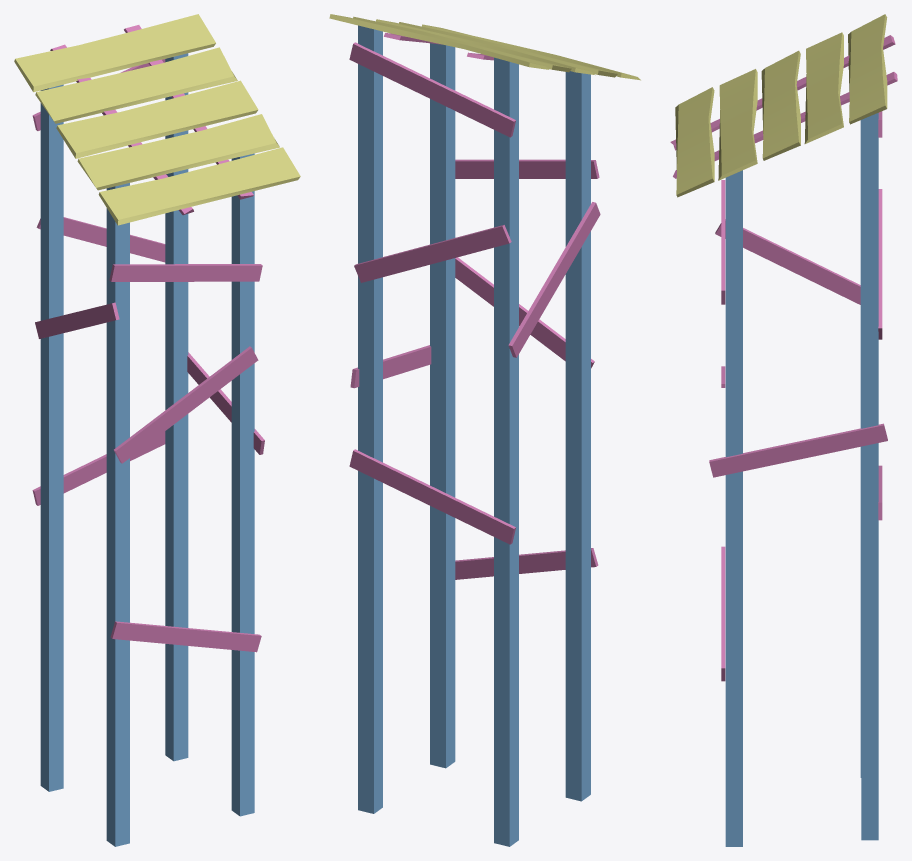
The model's file is ramp.fbx.
3 renders of one model, left to right at view 1: azimuth 30°, elevation 25°; view 2: azimuth 150°, elevation 25°; view 3: azimuth 270°, elevation 25°, orthographic. The views are drawn at different scales.
Parts seen in each view (by area): view 1: Plank030; view 2: Plank030; view 3: Plank030.
Part boxes in pixels (<box>): Plank030: <box>14,14,300,846</box>; Plank030: <box>329,14,640,846</box>; Plank030: <box>670,14,897,846</box>.
Size of the model in its own units: 50 by 192 by 52.54.
